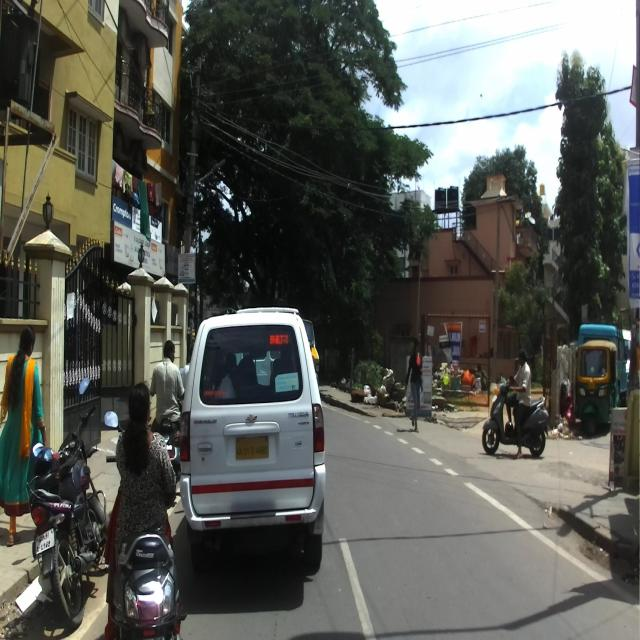Car: (177, 288, 324, 554)
autorickshaw: (575, 338, 618, 434)
motorcycle_bajaj: (24, 375, 110, 631)
scooter: (103, 408, 187, 639), (480, 372, 549, 458)
